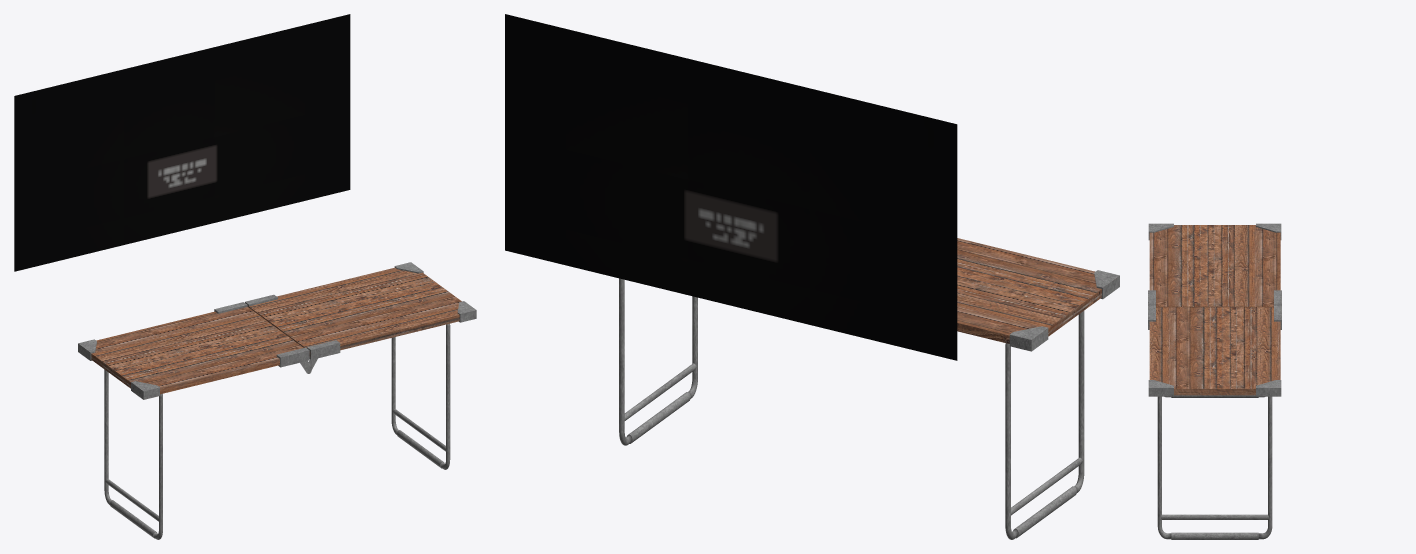
The model's file is ostostable_variant.gltf.
The picture shows the model from 3 angles, left to right: view 1: azimuth 30°, elevation 25°; view 2: azimuth 150°, elevation 25°; view 3: azimuth 270°, elevation 25°; orthographic projection. The views are drawn at different scales.
Parts seen in each view (by area): view 1: Info, OstosTable Variant; view 2: Info, OstosTable Variant; view 3: OstosTable Variant.
Part boxes in pixels (bbox=[...]): Info: bbox=[14, 14, 350, 271]; OstosTable Variant: bbox=[78, 262, 476, 539]; Info: bbox=[505, 14, 957, 360]; OstosTable Variant: bbox=[619, 238, 1119, 539]; OstosTable Variant: bbox=[1148, 223, 1281, 539].
Bounding box in the file's own units: 2.01 × 2.08 × 1.29.
2 materials, 2 textured.
